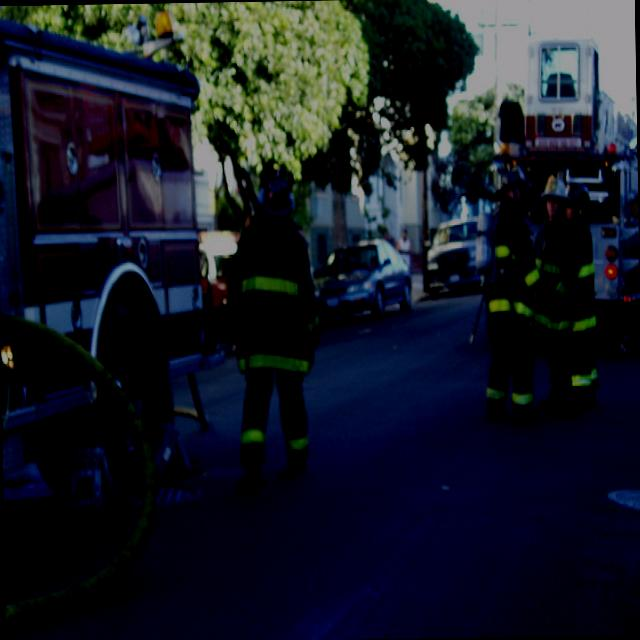Vehicle: (0, 2, 226, 496), (486, 35, 640, 303), (312, 236, 413, 323), (424, 215, 480, 298), (200, 273, 242, 339), (198, 228, 240, 283)
